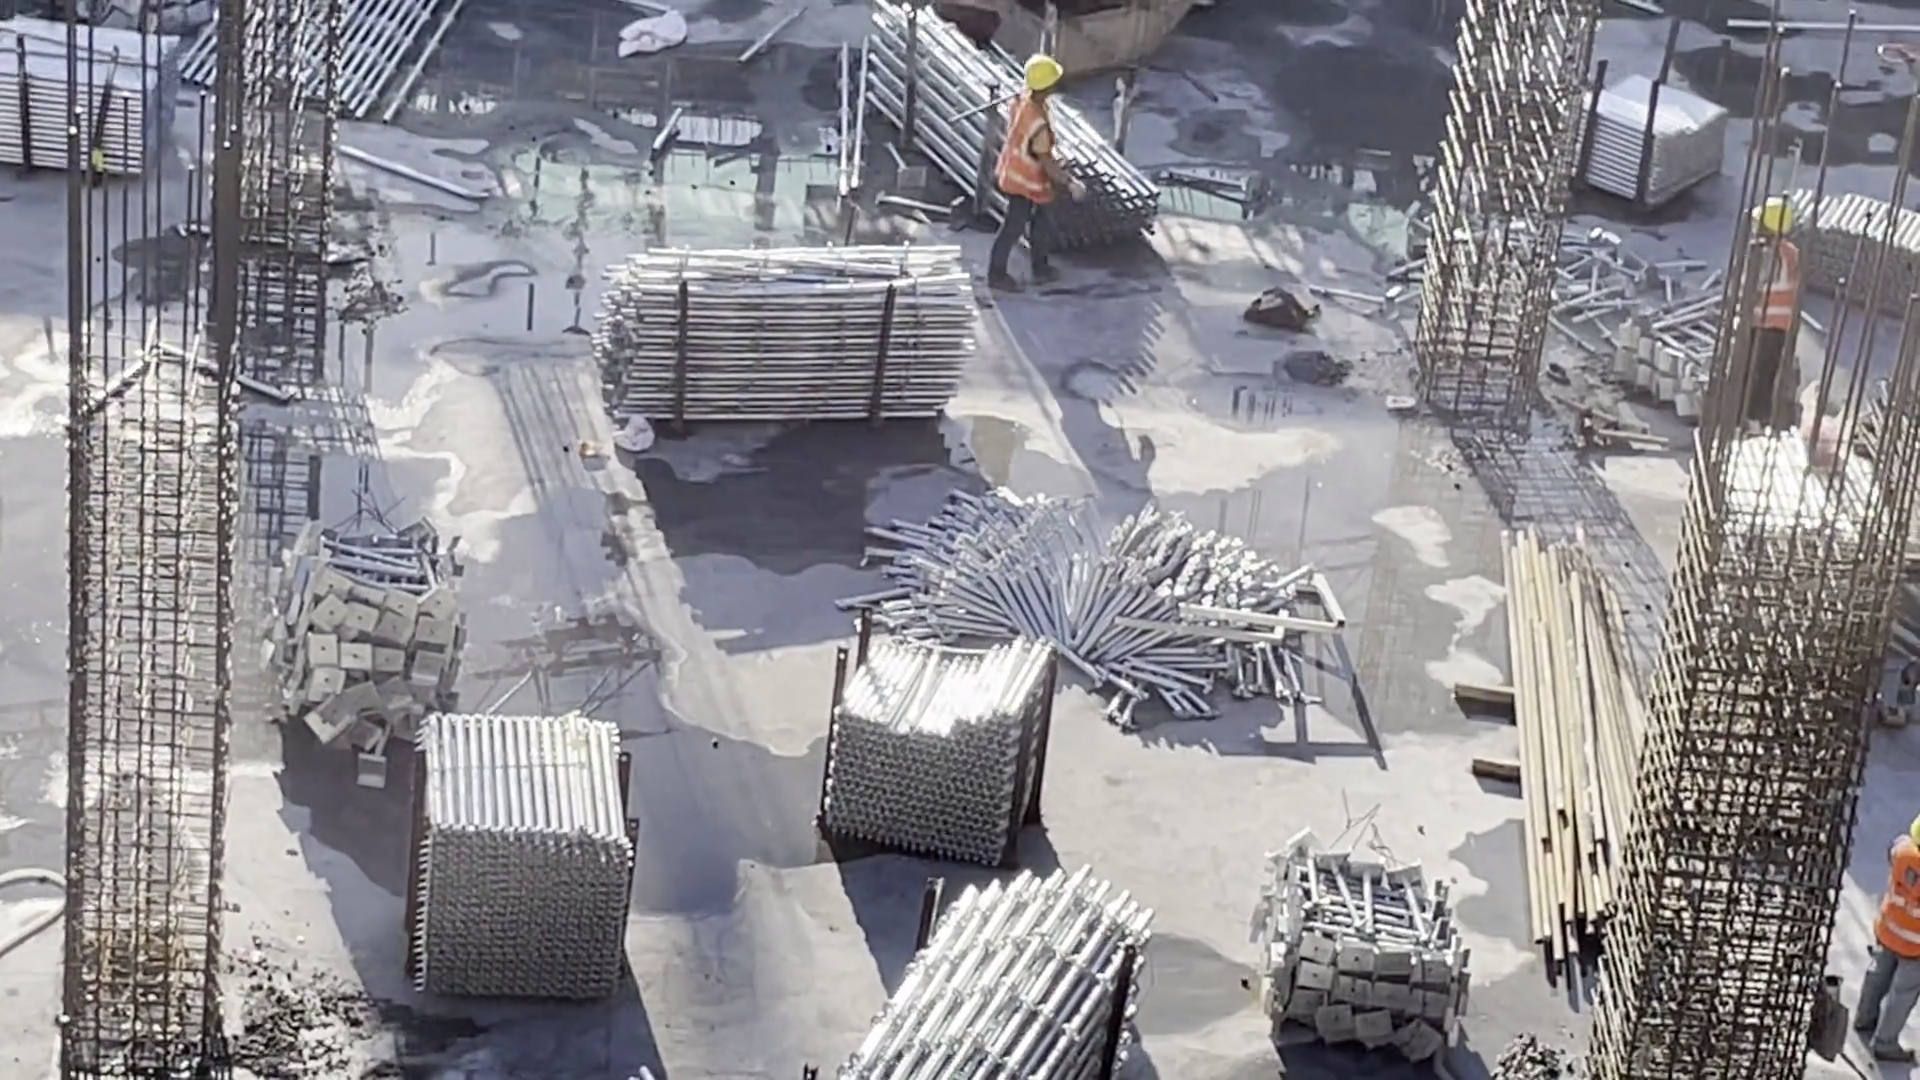helmet: (1015, 49, 1071, 111), (1756, 195, 1800, 231)
person: (985, 45, 1063, 295), (1719, 197, 1806, 412), (1858, 775, 1920, 1071)
scaffold: (887, 471, 1275, 726), (796, 870, 1152, 1080), (869, 1, 1149, 254), (595, 238, 977, 416), (411, 709, 626, 995), (819, 623, 1064, 857), (1242, 826, 1462, 1054), (269, 528, 445, 761), (1, 14, 200, 197), (1550, 57, 1742, 199), (1601, 270, 1780, 399), (1782, 179, 1920, 301)
vest: (1872, 826, 1920, 961), (1744, 239, 1798, 335), (1001, 97, 1044, 206)
